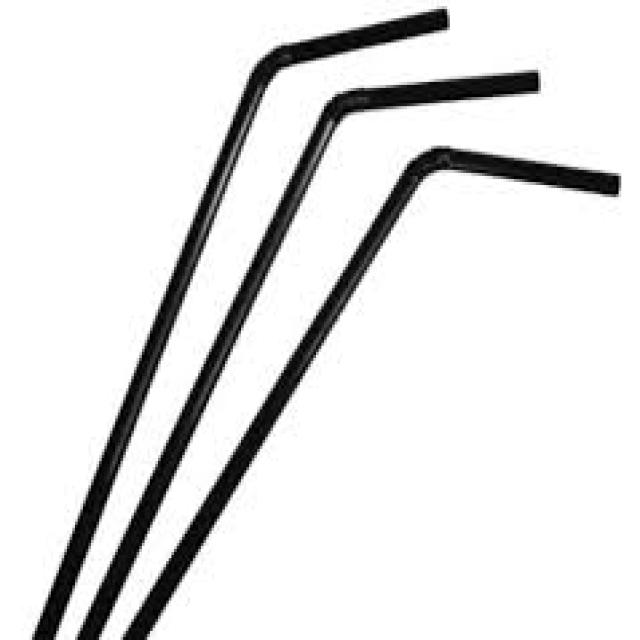straw: (34, 8, 444, 638), (81, 72, 536, 638), (125, 147, 619, 638)
